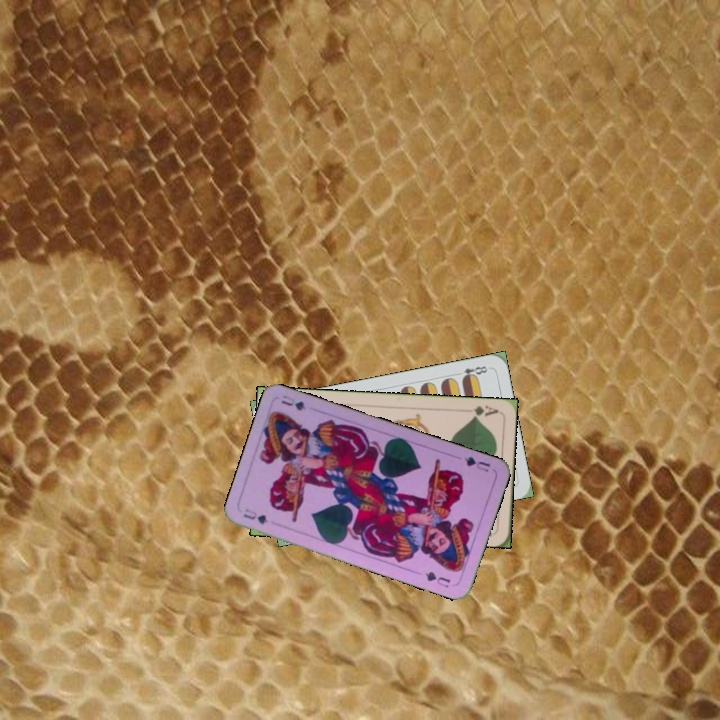E8: (452, 362, 492, 382)
GA: (467, 402, 501, 420)
GU: (460, 452, 493, 475), (239, 505, 270, 527)
